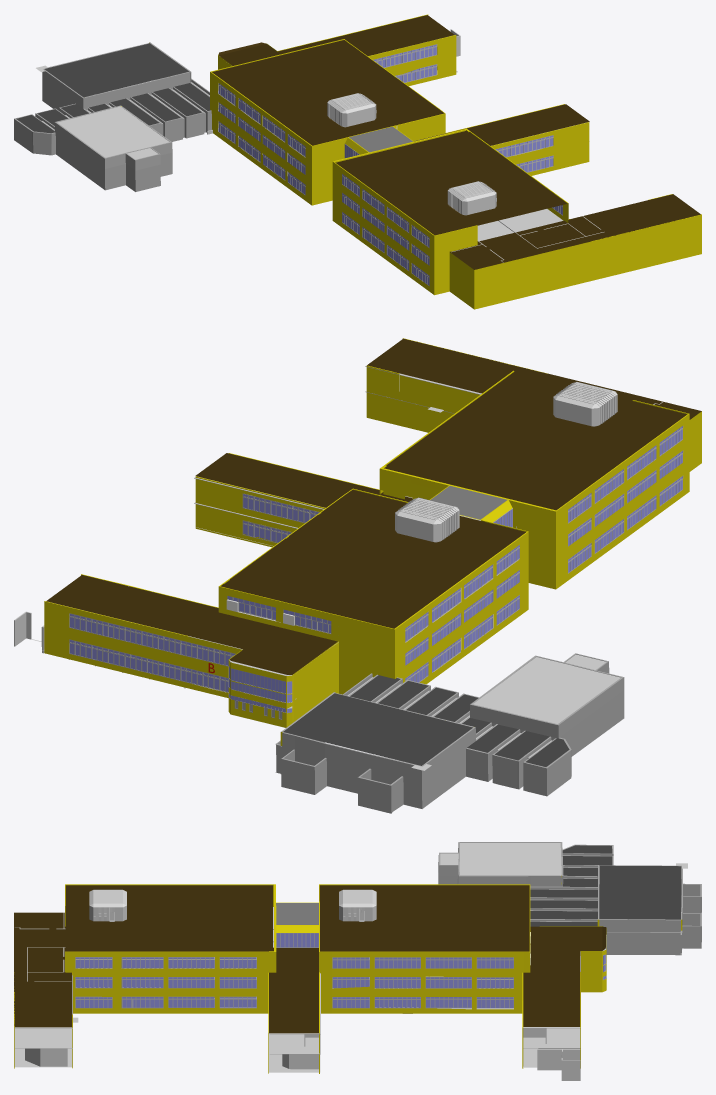
File: HS-OFFENBURG-MODEL-B1-10G_PROGRESS.fbx
3 views of the same model, one above another, from view 1: azimuth 30°, elevation 25°; view 2: azimuth 150°, elevation 25°; view 3: azimuth 270°, elevation 25° (orthographic). The views are drawn at different scales.
Parts seen in each view (by area): view 1: Plane, Plane.002, Plane.003, Plane.004, Plane.001, Plane.007, Plane.005, Plane.034, Cube.001, Cube.002, Window.R.070, Window.R.087 (+4 smaller); view 2: Plane, Plane.002, Plane.003, Plane.001, Plane.007, Plane.004, Plane.005, Window.R.007, Window.R.006, Cube.002, Cube.001, Window.R.087 (+6 smaller); view 3: Plane, Plane.002, Plane.003, Plane.004, Plane.001, Plane.005, Plane.007, Plane.027, Window.R.079, Window.R.062, Window.R.080, Window.R.063 (+20 smaller).
Part boxes in pixels (x1=…): Plane: x1=14, y1=14, x2=701, y2=309; Plane.002: x1=212, y1=40, x2=444, y2=145; Plane.003: x1=335, y1=131, x2=567, y2=235; Plane.004: x1=450, y1=194, x2=700, y2=269; Plane.001: x1=218, y1=15, x2=454, y2=65; Plane.007: x1=57, y1=106, x2=169, y2=159; Plane.005: x1=414, y1=104, x2=589, y2=145; Plane.034: x1=218, y1=91, x2=589, y2=241; Cube.001: x1=447, y1=181, x2=496, y2=215; Cube.002: x1=327, y1=93, x2=376, y2=127; Window.R.070: x1=238, y1=98, x2=260, y2=162; Window.R.087: x1=362, y1=189, x2=384, y2=253; Plane: x1=44, y1=338, x2=701, y2=813; Plane.002: x1=220, y1=489, x2=525, y2=628; Plane.003: x1=384, y1=372, x2=686, y2=510; Plane.001: x1=46, y1=575, x2=337, y2=674; Plane.007: x1=472, y1=654, x2=620, y2=723; Plane.004: x1=367, y1=338, x2=701, y2=419; Plane.005: x1=195, y1=453, x2=412, y2=507; Window.R.007: x1=69, y1=613, x2=235, y2=666; Window.R.006: x1=69, y1=639, x2=228, y2=692; Cube.002: x1=395, y1=497, x2=459, y2=542; Cube.001: x1=553, y1=382, x2=617, y2=426; Window.R.087: x1=594, y1=469, x2=624, y2=553; Plane: x1=14, y1=842, x2=701, y2=1073; Plane.002: x1=319, y1=885, x2=529, y2=951; Plane.003: x1=65, y1=885, x2=272, y2=951; Plane.004: x1=14, y1=912, x2=72, y2=1027; Plane.001: x1=523, y1=926, x2=606, y2=1026; Plane.005: x1=269, y1=947, x2=318, y2=1033; Plane.007: x1=440, y1=843, x2=561, y2=875; Plane.027: x1=15, y1=976, x2=580, y2=1054; Window.R.079: x1=168, y1=957, x2=214, y2=1007; Window.R.062: x1=425, y1=957, x2=471, y2=1008; Window.R.080: x1=219, y1=957, x2=256, y2=1008; Window.R.063: x1=476, y1=957, x2=513, y2=1008.
Size of the model in its own units: 8352 by 1462 by 11382.
